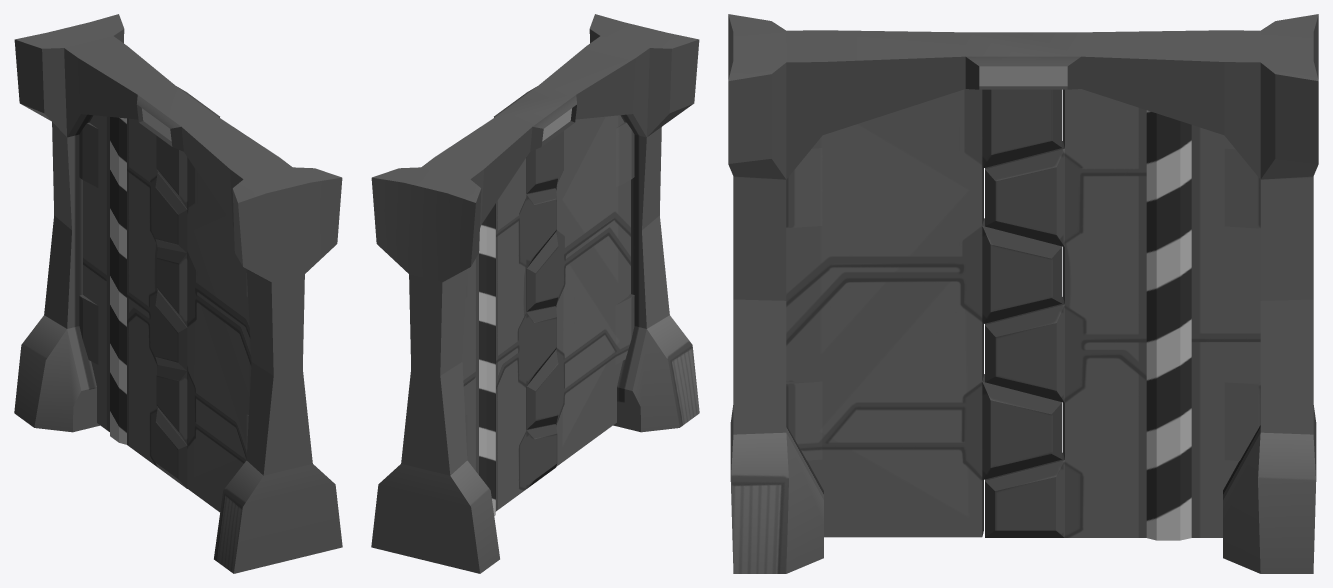
The model's file is space_door.glb.
3 renders of one model, left to right at view 1: azimuth 30°, elevation 25°; view 2: azimuth 150°, elevation 25°; view 3: azimuth 270°, elevation 25°, orthographic. The views are drawn at different scales.
Parts seen in each view (by area): view 1: side_5, pCube6, pCube5; view 2: side_5, pCube5, pCube6; view 3: side_5, pCube6, pCube5.
Boxes of the visible parts, x1,y1,x2,y2 form: side_5: [14, 14, 342, 573]; pCube6: [79, 115, 187, 488]; pCube5: [156, 136, 251, 512]; side_5: [371, 14, 699, 573]; pCube5: [526, 115, 634, 466]; pCube6: [462, 158, 557, 515]; side_5: [728, 14, 1318, 573]; pCube6: [985, 89, 1260, 540]; pCube5: [786, 89, 1062, 537].
Size of the model in its own units: 91.89 by 302 by 326.
2 materials, 2 textured.
